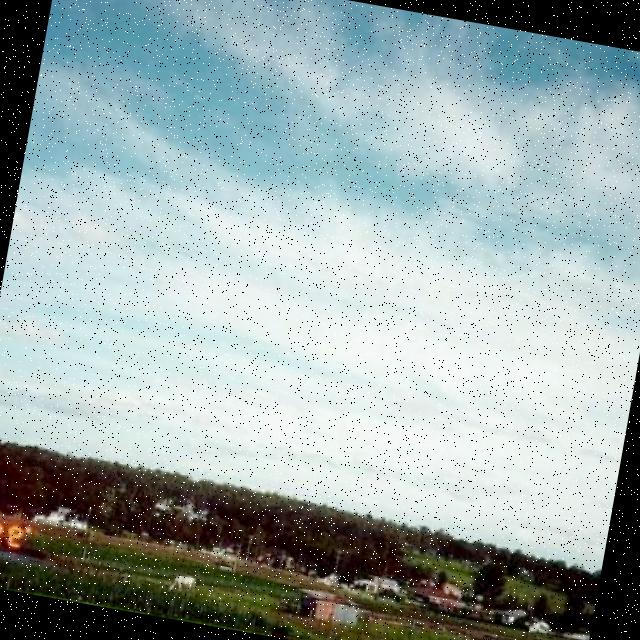Cs: (1, 84, 640, 440)
